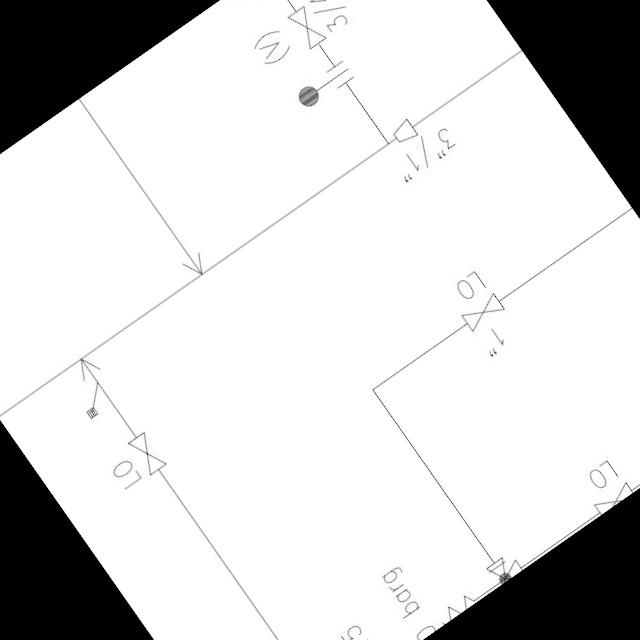GV: (454, 286, 512, 338), (120, 425, 172, 481), (281, 0, 330, 54)
RPV: (424, 544, 528, 628)
SP: (382, 111, 426, 154)
